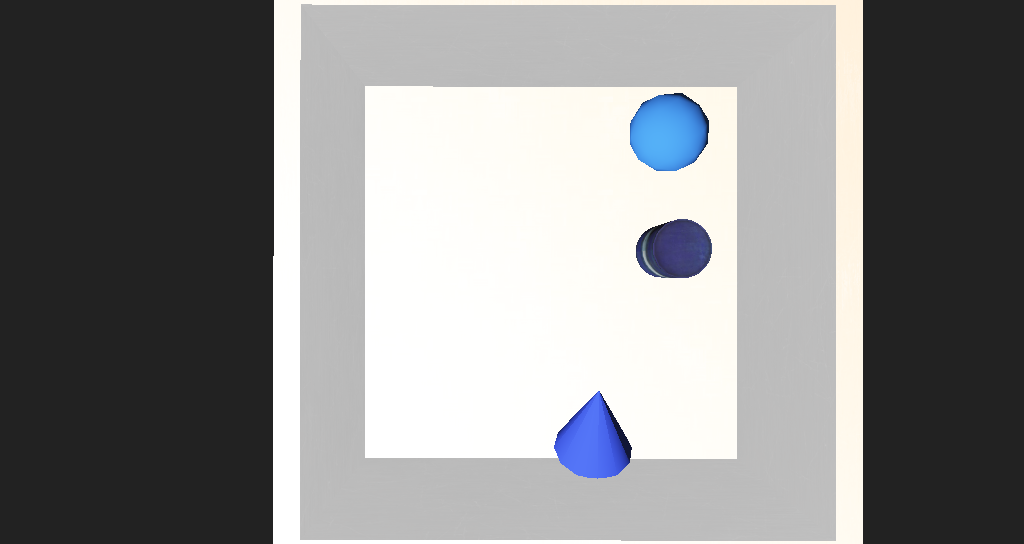cone: (573, 241, 627, 274)
cylinder: (515, 315, 576, 391)
sphere: (569, 169, 630, 212)
